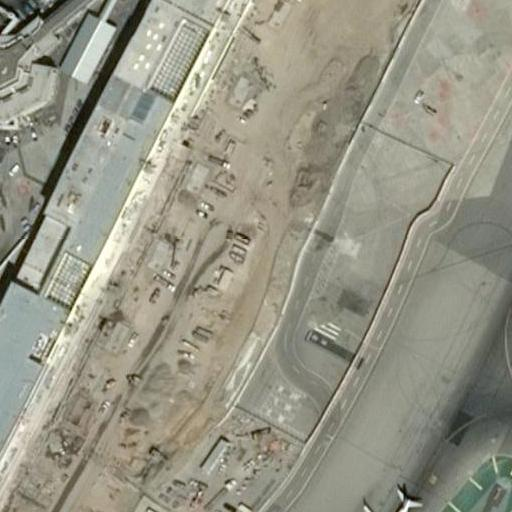Aircraft: (362, 481, 425, 512)
